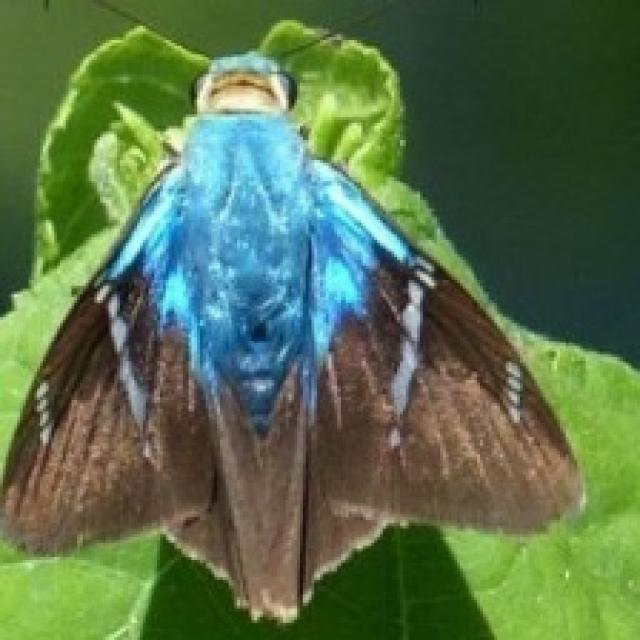butterfly: (0, 0, 586, 626)
